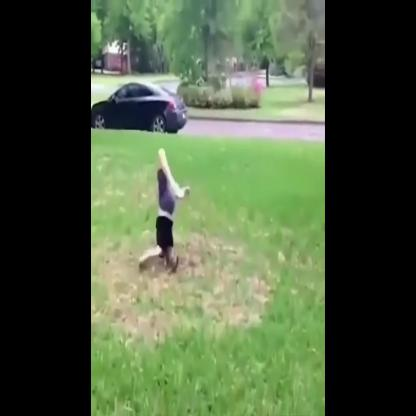Fall_Down: (137, 143, 193, 275)
